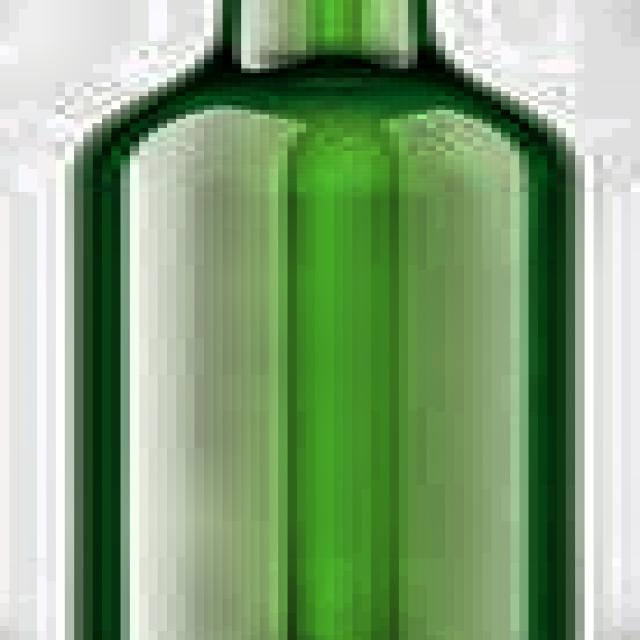glass: (66, 0, 597, 640)
